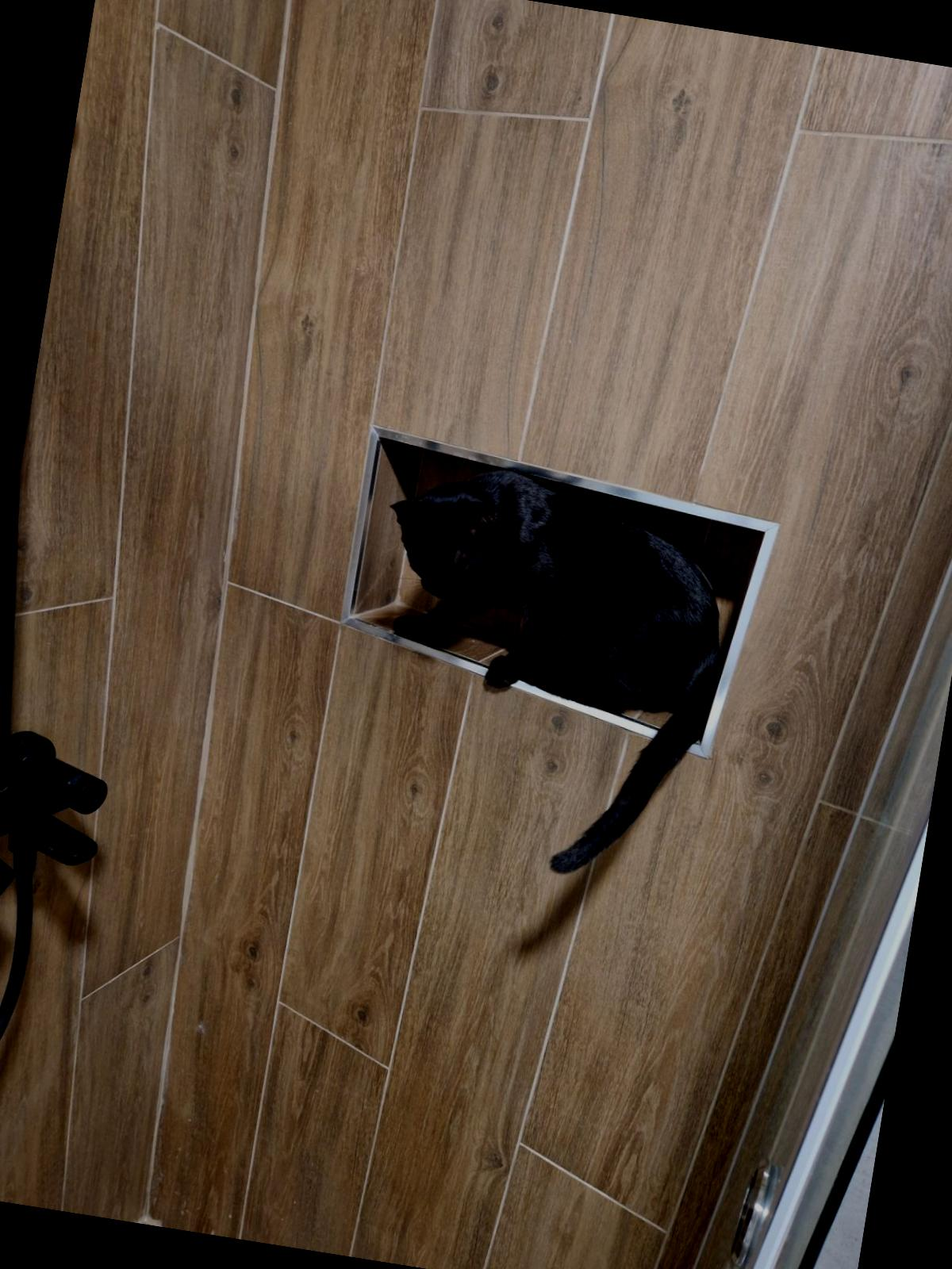macka: (332, 443, 757, 899)
